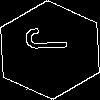J: (25, 25, 79, 53)
